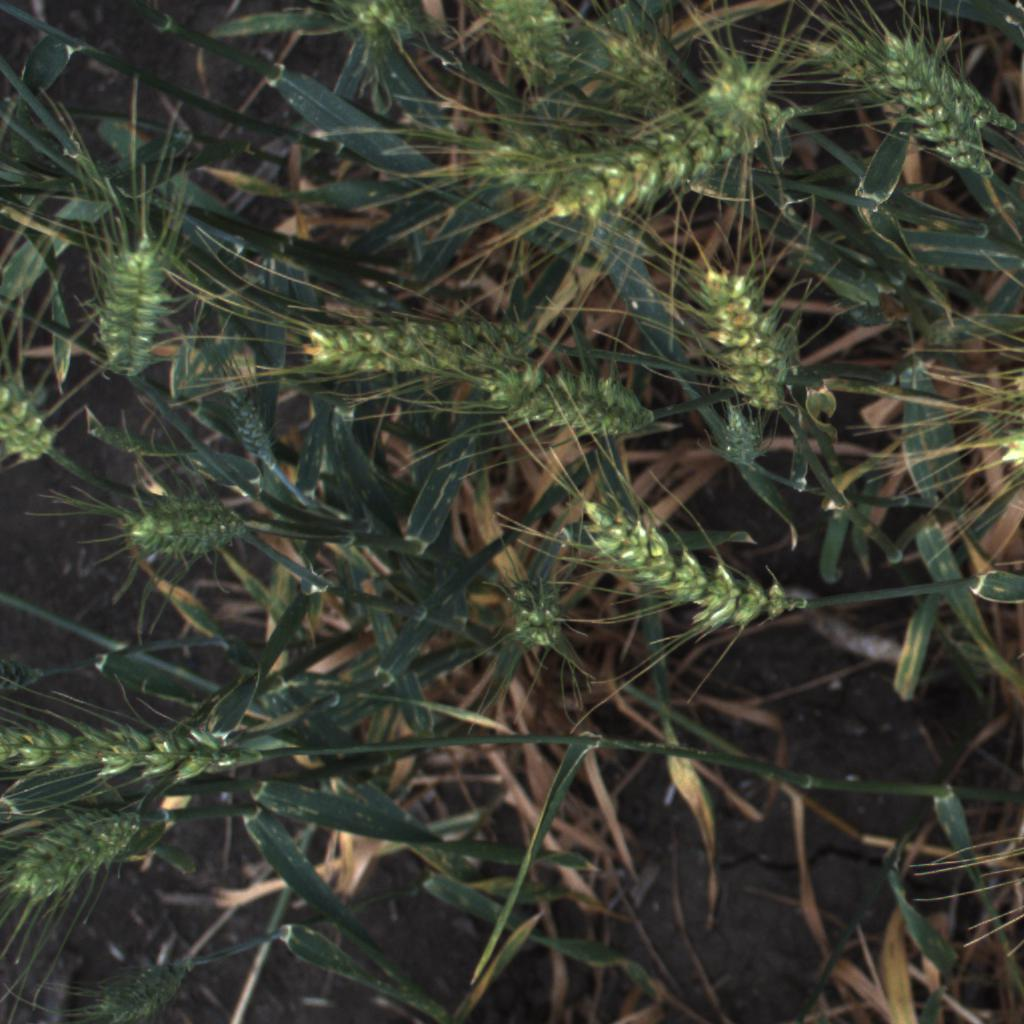0-0: (520, 106, 781, 235), (570, 501, 804, 642), (297, 307, 554, 382), (469, 351, 665, 445), (694, 261, 803, 422), (838, 69, 984, 189), (7, 806, 178, 901), (883, 29, 1017, 142), (0, 720, 240, 781), (89, 233, 183, 372), (119, 492, 257, 575), (590, 12, 685, 130), (76, 937, 199, 1024), (767, 32, 909, 107), (474, 0, 575, 103), (428, 132, 582, 194), (218, 358, 285, 481), (0, 367, 66, 476), (695, 53, 783, 128), (501, 576, 575, 661), (705, 405, 774, 481), (972, 406, 1024, 485)
